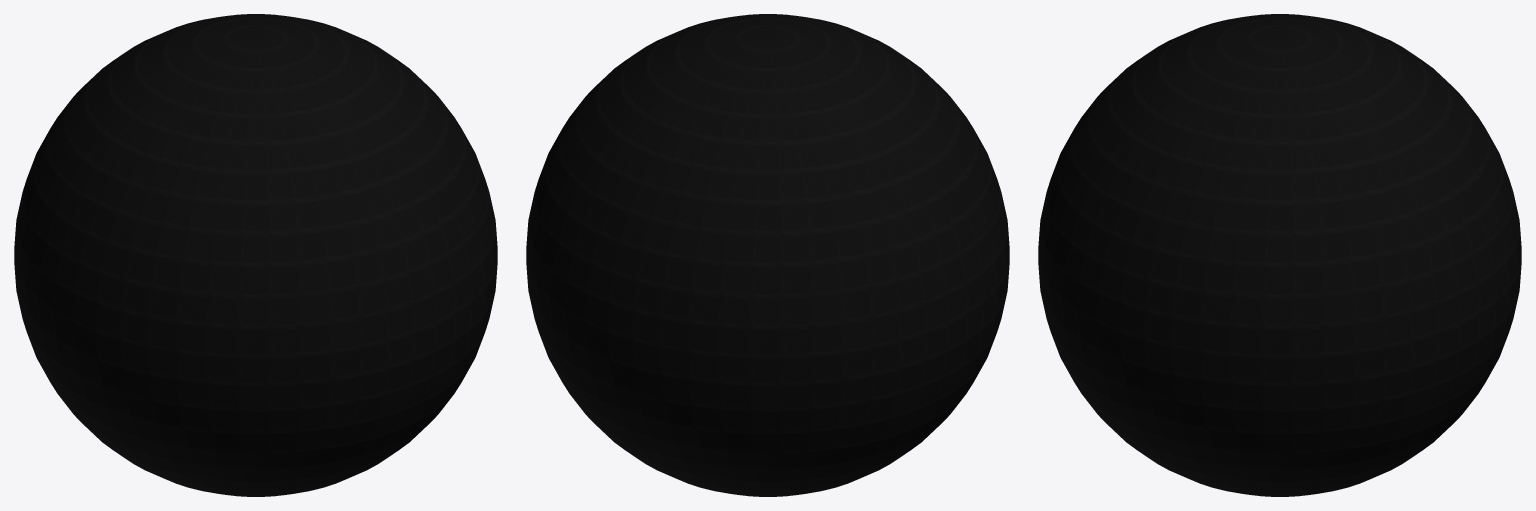
Rendered from black_hole.obj.
3 renders of one model, left to right at view 1: azimuth 30°, elevation 25°; view 2: azimuth 150°, elevation 25°; view 3: azimuth 270°, elevation 25°, orthographic.
Parts seen in each view (by area): view 1: sphere; view 2: sphere; view 3: sphere.
Boxes of the visible parts, x1=… form: sphere: x1=14, y1=14, x2=497, y2=496; sphere: x1=526, y1=14, x2=1009, y2=496; sphere: x1=1038, y1=14, x2=1521, y2=496.
Size of the model in its own units: 128 by 128 by 128.
